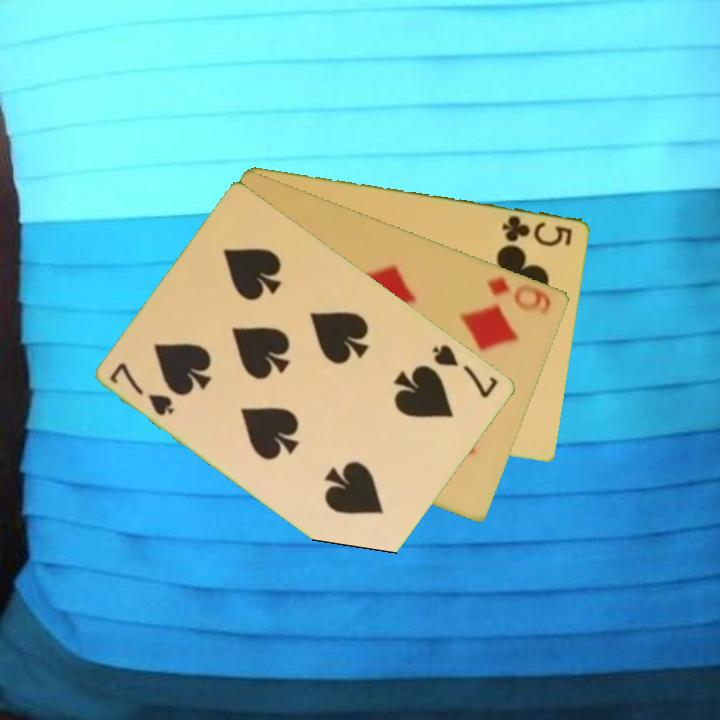5c: (499, 211, 576, 249)
6d: (484, 273, 555, 317)
7s: (429, 340, 502, 401), (106, 359, 179, 419)
